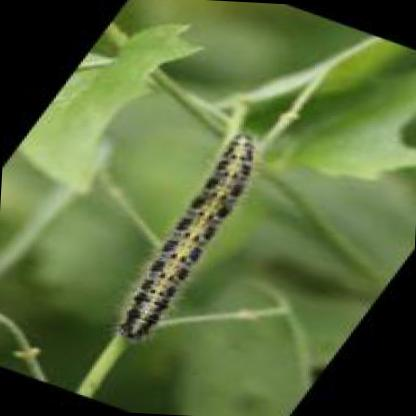pieris: (110, 133, 256, 344)
